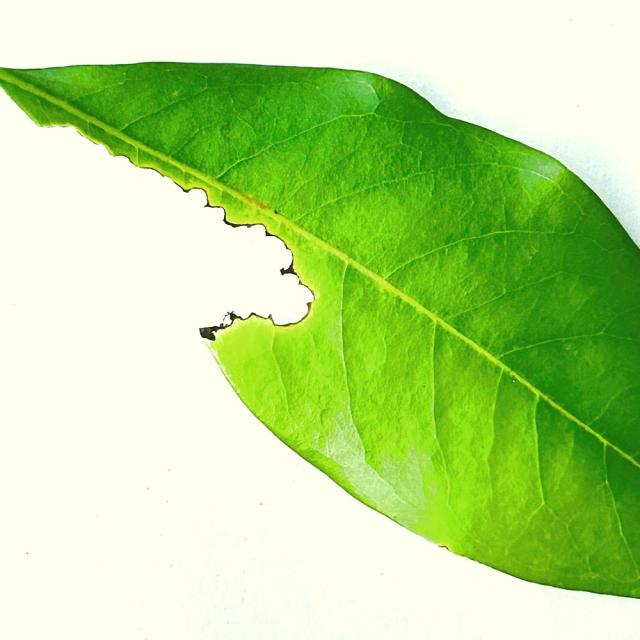Deficiency Leaf: (45, 128, 313, 334)
Lychee: (0, 63, 639, 597)
